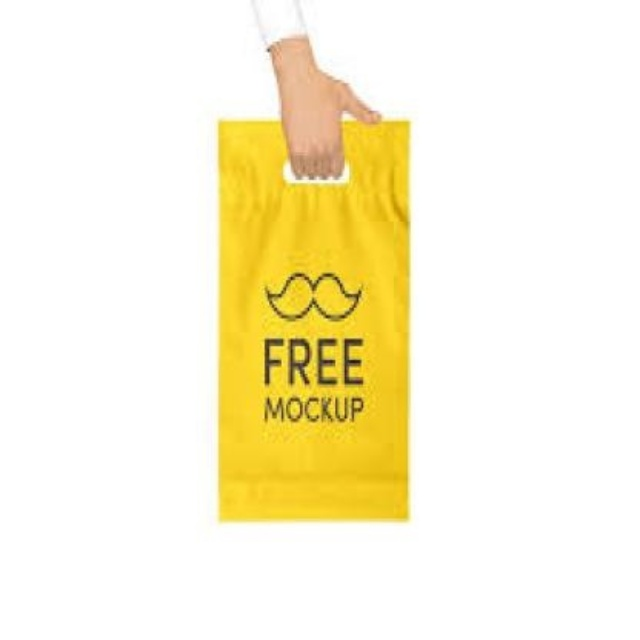trash: (218, 120, 408, 518)
